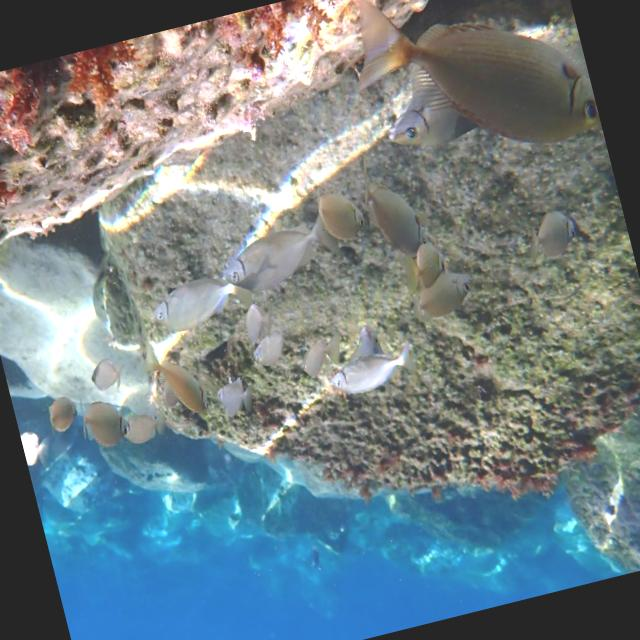Sokar Baligi: (135, 262, 246, 344), (321, 334, 424, 402), (510, 193, 590, 274)
